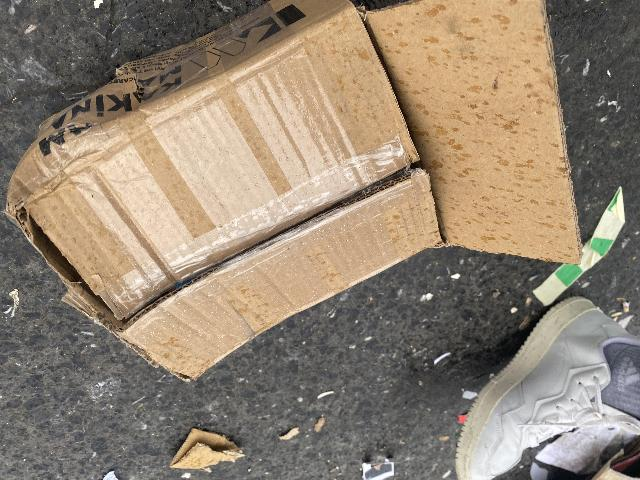Kagit: (7, 0, 582, 385), (170, 426, 244, 470)
